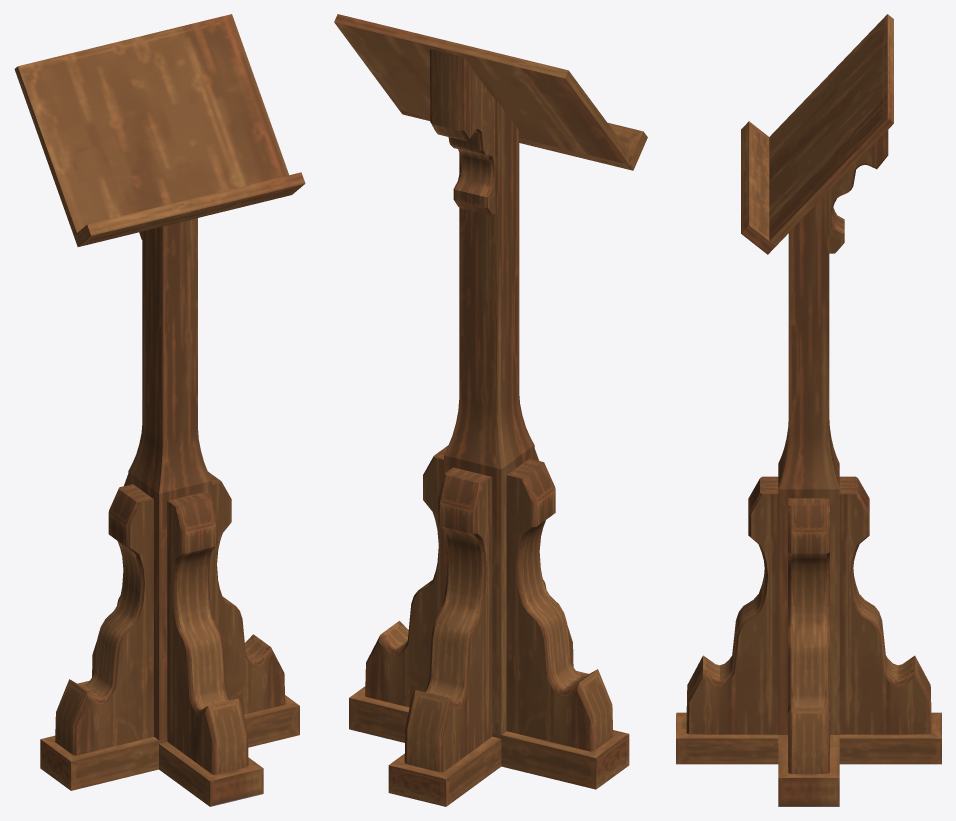
The model's file is book_stand.glb.
3 renders of one model, left to right at view 1: azimuth 30°, elevation 25°; view 2: azimuth 150°, elevation 25°; view 3: azimuth 270°, elevation 25°, orthographic. The views are drawn at different scales.
Visible parts, largest first — view 1: BookStand; view 2: BookStand; view 3: BookStand.
Part boxes in pixels (x1,y1,x2,y2): BookStand: (14, 14, 305, 806); BookStand: (334, 14, 647, 806); BookStand: (676, 14, 941, 806).
Bounding box in the file's own units: 0.5071 × 1.45 × 0.5112.
Materials: 1 (1 with a texture image).
